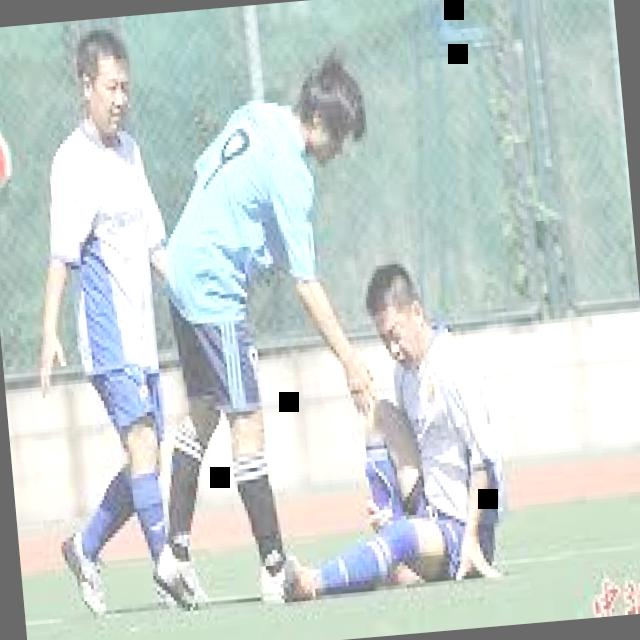Fall-Detected: (232, 224, 539, 616)
